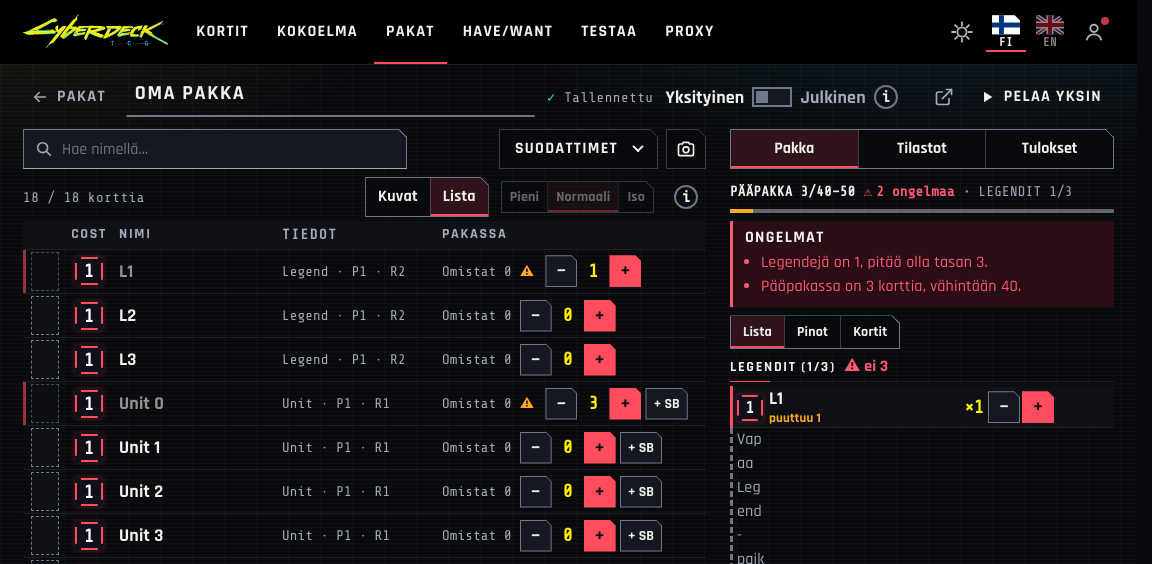
Test: visibility in the deck editor › can go back to private before publishing without any write
Click the switch named "Julkinen" at [772, 97], box [752,77,792,117]
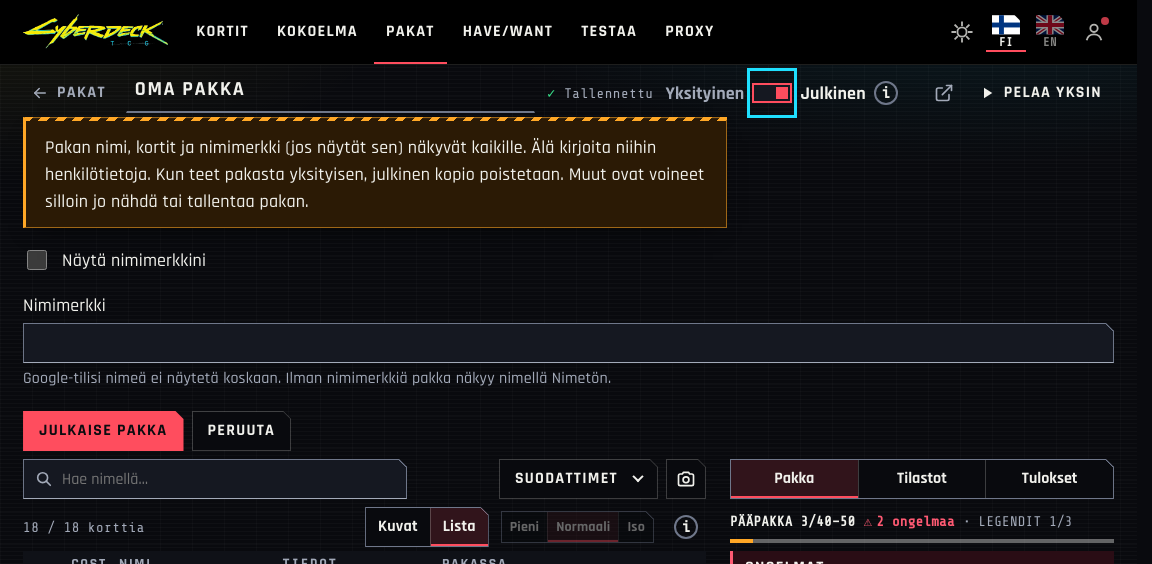
Click the button "Peruuta" at [241, 431], box [192,411,291,451]
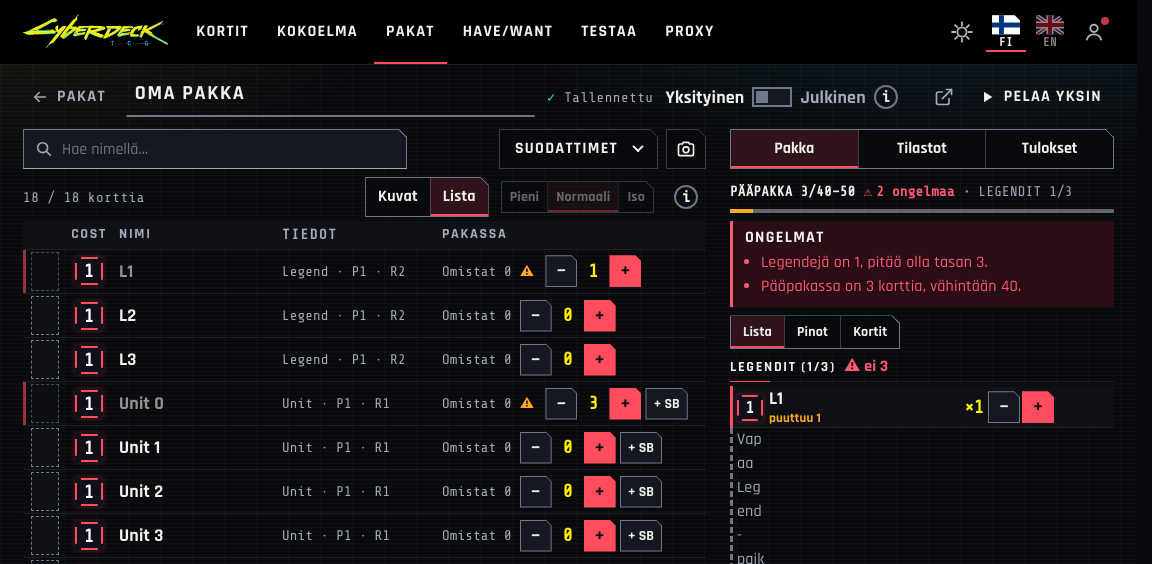
Expected: the button "Julkaise pakka" is gone
